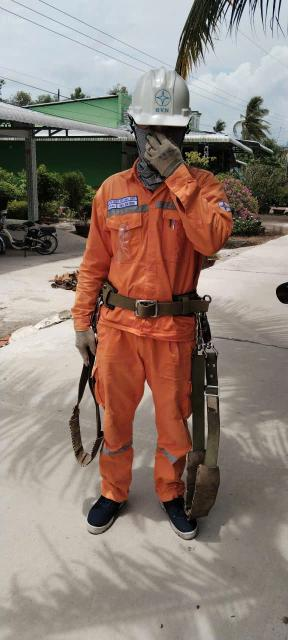gloves: (138, 121, 190, 178), (62, 322, 106, 365)
harness: (97, 277, 215, 336)
helmet: (129, 60, 212, 140)
shoes: (75, 479, 131, 539), (163, 493, 203, 540)
